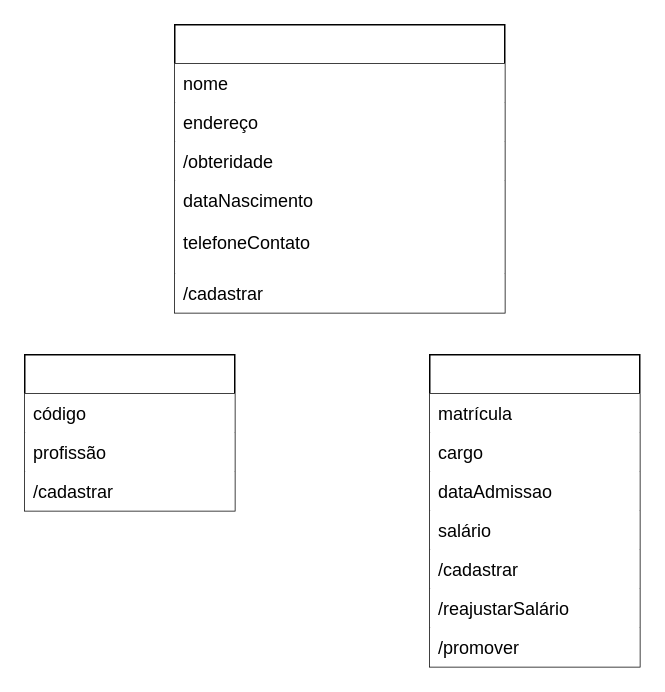
Image size: 665x692. Some labels were removed from this diagram. Here are the shapes that lost their labels. From the top down, the box of each, then its label:
(173, 23, 505, 313): Usuário
(23, 353, 235, 511): Cliente
(428, 353, 640, 667): Funcionário
